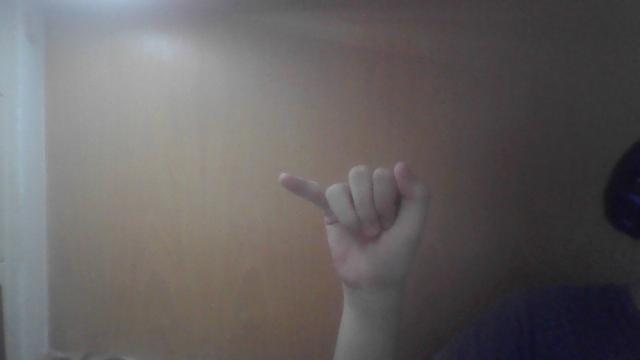Right: (278, 152, 442, 284)
